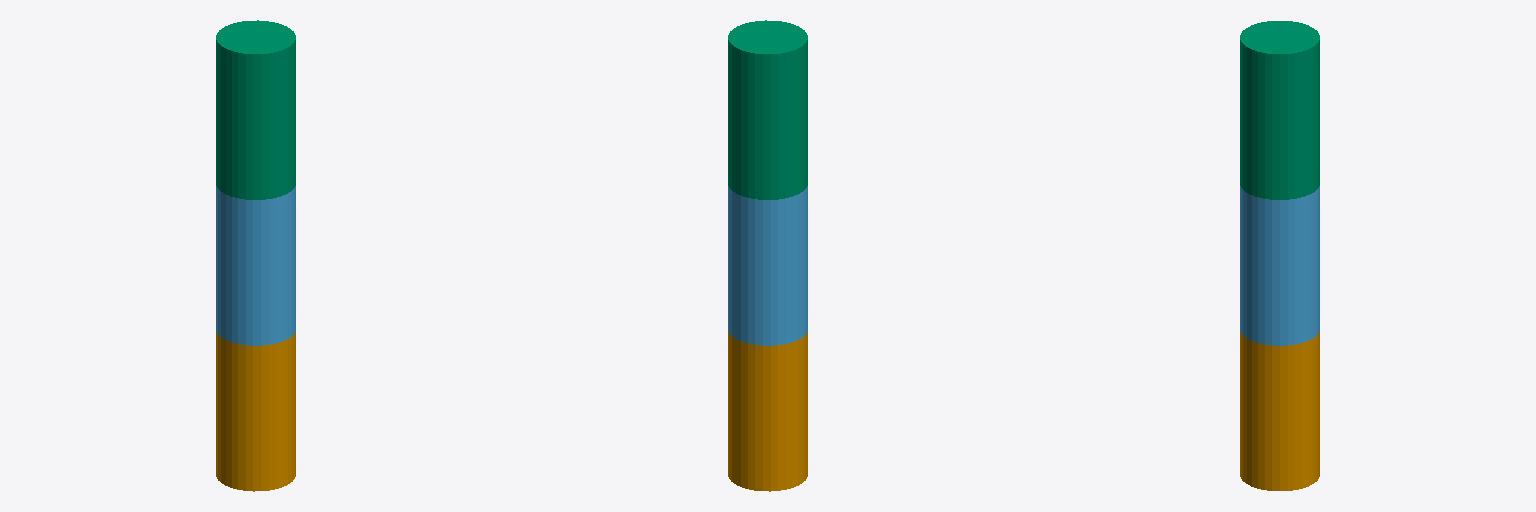
URDF robot description (simple_robot):
<robot name="simple_robot">

  <link name="root_link">
    <inertial>
      <mass value="1.0"/>
      <inertia ixx="0.16667" ixy="0.0" ixz="0.0" iyy="0.16667" iyz="0.0" izz="0.33333"/>
    </inertial>
    <visual>
      <geometry>
        <cylinder radius="0.1" length="0.4"/>
      </geometry>
    </visual>
    <collision>
      <geometry>
        <cylinder radius="0.1" length="0.4"/>
      </geometry>
    </collision>
  </link>

  <link name="link_1">
    <inertial>
      <mass value="1.0"/>
      <inertia ixx="0.16667" ixy="0.0" ixz="0.0" iyy="0.16667" iyz="0.0" izz="0.33333"/>
    </inertial>
    <visual>
      <geometry>
        <cylinder radius="0.1" length="0.4"/>
      </geometry>
    </visual>
    <collision>
      <geometry>
        <cylinder radius="0.1" length="0.4"/>
      </geometry>
    </collision>
  </link>

  <link name="link_2">
    <inertial>
      <mass value="1.0"/>
      <inertia ixx="0.16667" ixy="0.0" ixz="0.0" iyy="0.16667" iyz="0.0" izz="0.33333"/>
    </inertial>
    <visual>
      <geometry>
        <cylinder radius="0.1" length="0.4"/>
      </geometry>
    </visual>
    <collision>
      <geometry>
        <cylinder radius="0.1" length="0.4"/>
      </geometry>
    </collision>
  </link>

  <joint name="joint_1" type="revolute">
    <origin xyz="0 0 0.4" rpy="0 0 0"/>
    <parent link="root_link"/>
    <child link="link_1"/>
    <axis xyz="0 1 0"/>
    <limit effort="50000" lower="-1.66" upper="0.17" velocity="50000"/>
  </joint>

  <joint name="joint_2" type="revolute">
    <origin xyz="0 0 0.4" rpy="0 0 0"/>
    <parent link="link_1"/>
    <child link="link_2"/>
    <axis xyz="0 1 0"/>
    <limit effort="50000" lower="-1.66" upper="0.17" velocity="50000"/>
  </joint>

</robot>

--- What the picture shows (computed from the rendered views, not written in the file) ---
The picture shows the robot from 3 angles, left to right: view 1: azimuth 30°, elevation 25°; view 2: azimuth 150°, elevation 25°; view 3: azimuth 270°, elevation 25°; orthographic projection.
Model simple_robot with 3 links and 2 joints (2 revolute), rooted at root_link, posed every joint at zero.
Visible links, largest first — view 1: link_2, link_1, root_link; view 2: link_2, link_1, root_link; view 3: link_2, link_1, root_link.
Boxes of the visible links, x1,y1,x2,y2 form: link_2: (216, 20, 295, 199); link_1: (216, 186, 295, 345); root_link: (216, 332, 295, 491); link_2: (728, 20, 807, 199); link_1: (728, 186, 807, 345); root_link: (728, 332, 807, 491); link_2: (1240, 21, 1319, 199); link_1: (1240, 186, 1319, 345); root_link: (1240, 332, 1319, 490).
Size in the robot's own frame: 0.2 by 0.2 by 1.2 metres.
Geometry: primitives only (box / cylinder / sphere), no mesh files.